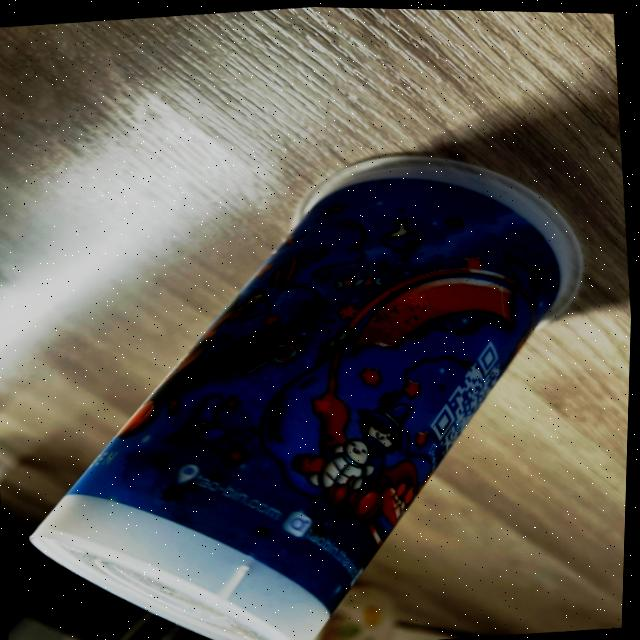Plastic Cup: (35, 152, 584, 640)
